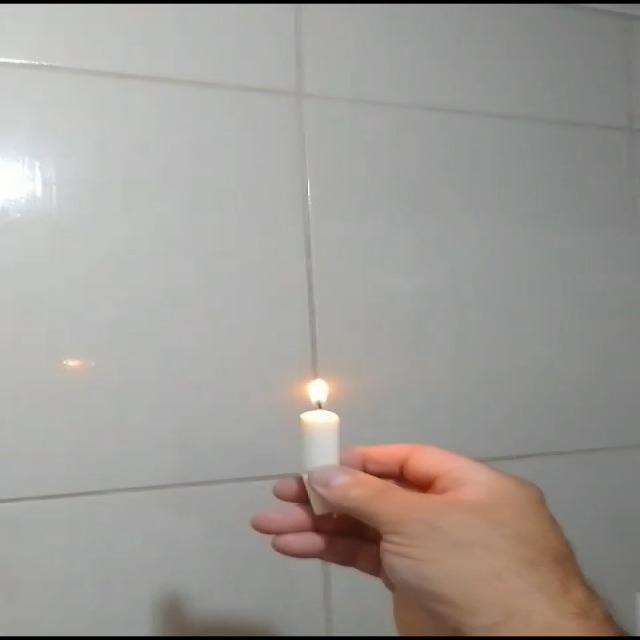fogo-ypXI: (302, 376, 334, 409)
